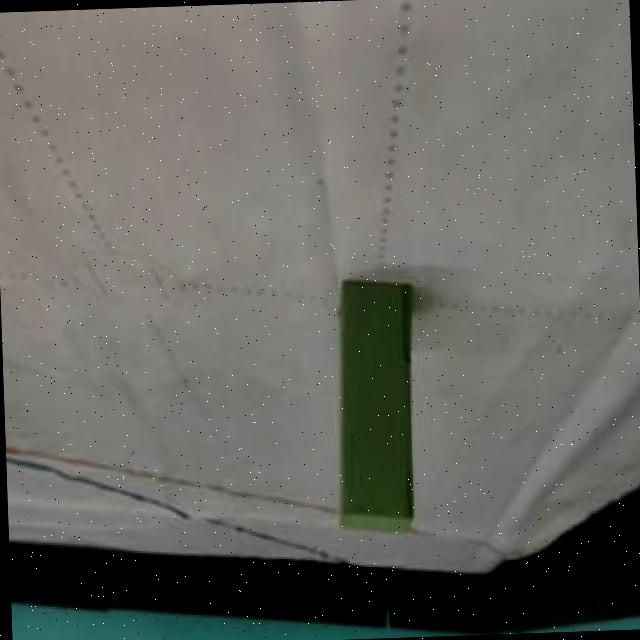greenbox: (325, 278, 416, 538)
